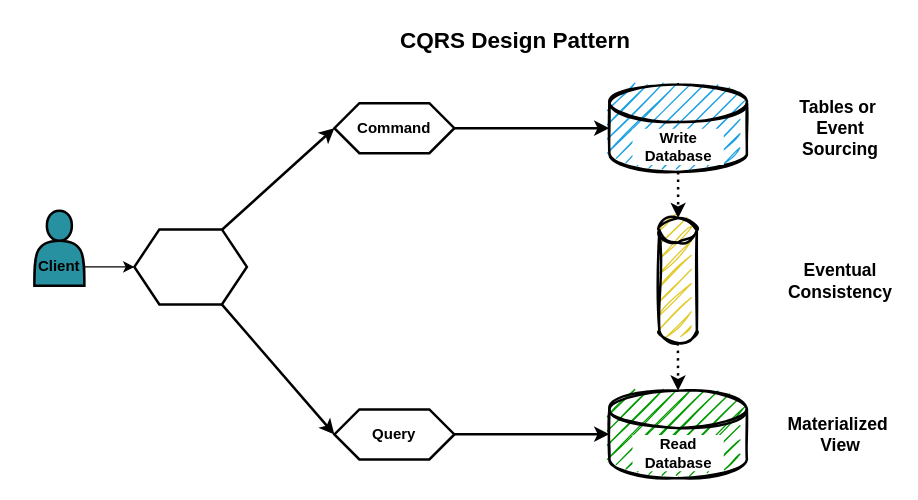
Some shapes in this 918 by 500 pixel diagram are drawn without their labels. Each missing label, with the box of its shape:
Eventbus: (658, 216, 698, 344)
UI: (132, 228, 248, 305)
